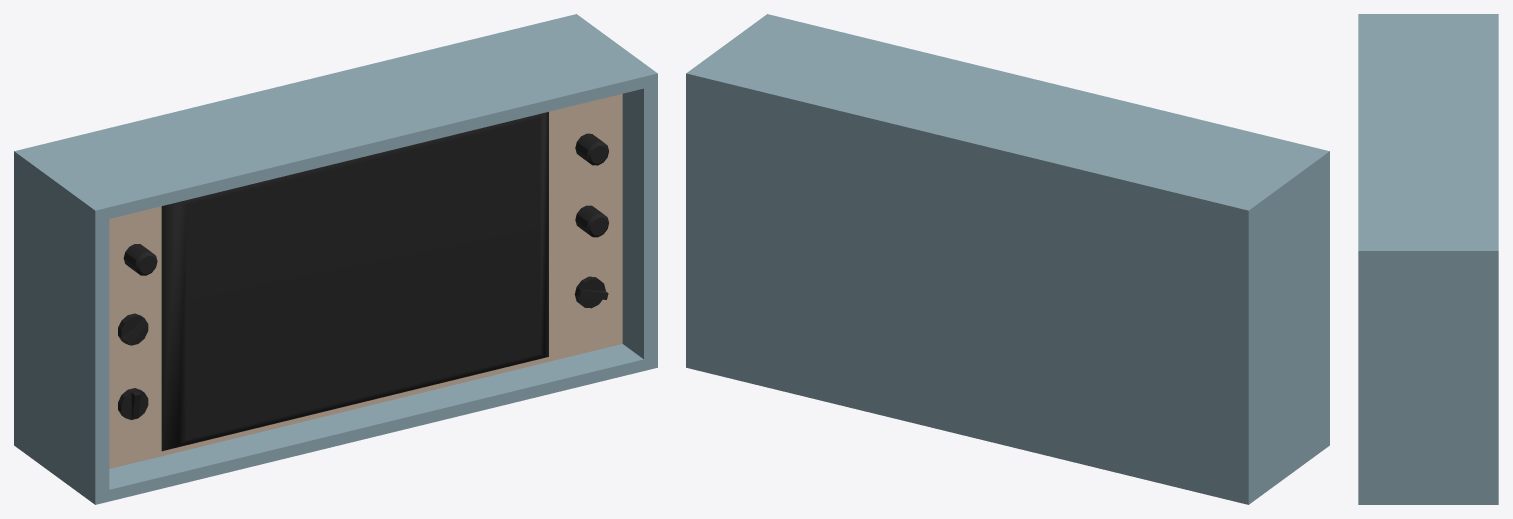
File: Block5A.fbx
3 renders of one model, left to right at view 1: azimuth 30°, elevation 25°; view 2: azimuth 150°, elevation 25°; view 3: azimuth 270°, elevation 25°, orthographic. The views are drawn at different scales.
Parts seen in each view (by area): view 1: Block5; view 2: Block5; view 3: Block5.
Part boxes in pixels (<box>): Block5: <box>14,14,657,504</box>; Block5: <box>686,14,1329,504</box>; Block5: <box>1358,14,1498,504</box>.
Bounding box in the file's own units: 2 × 1 × 0.5.
